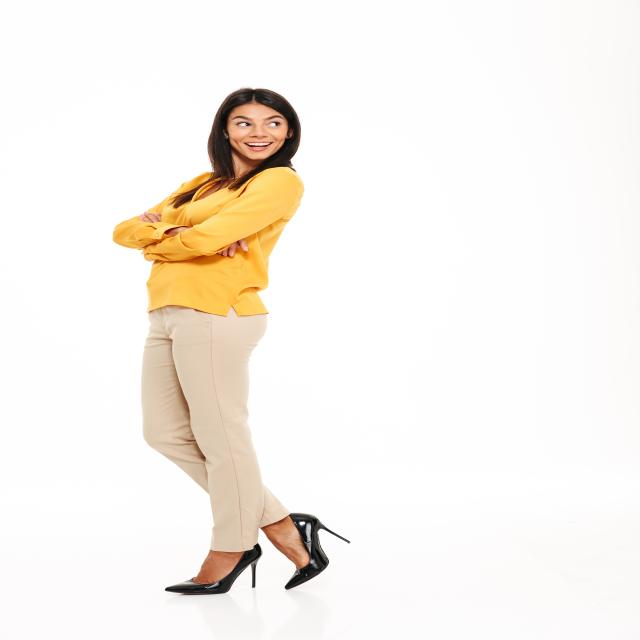Person: (112, 88, 348, 594)
